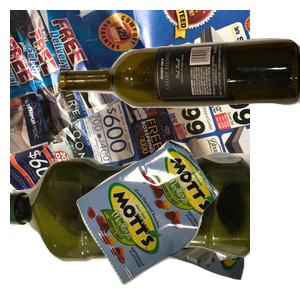glass: (60, 36, 300, 147)
paper: (10, 10, 250, 190)
plastic: (10, 149, 250, 300)
trash: (74, 137, 300, 300)
